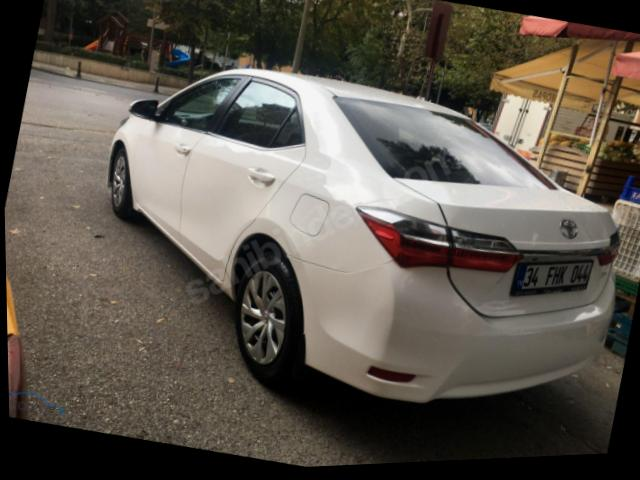plaka: (511, 260, 592, 295)
